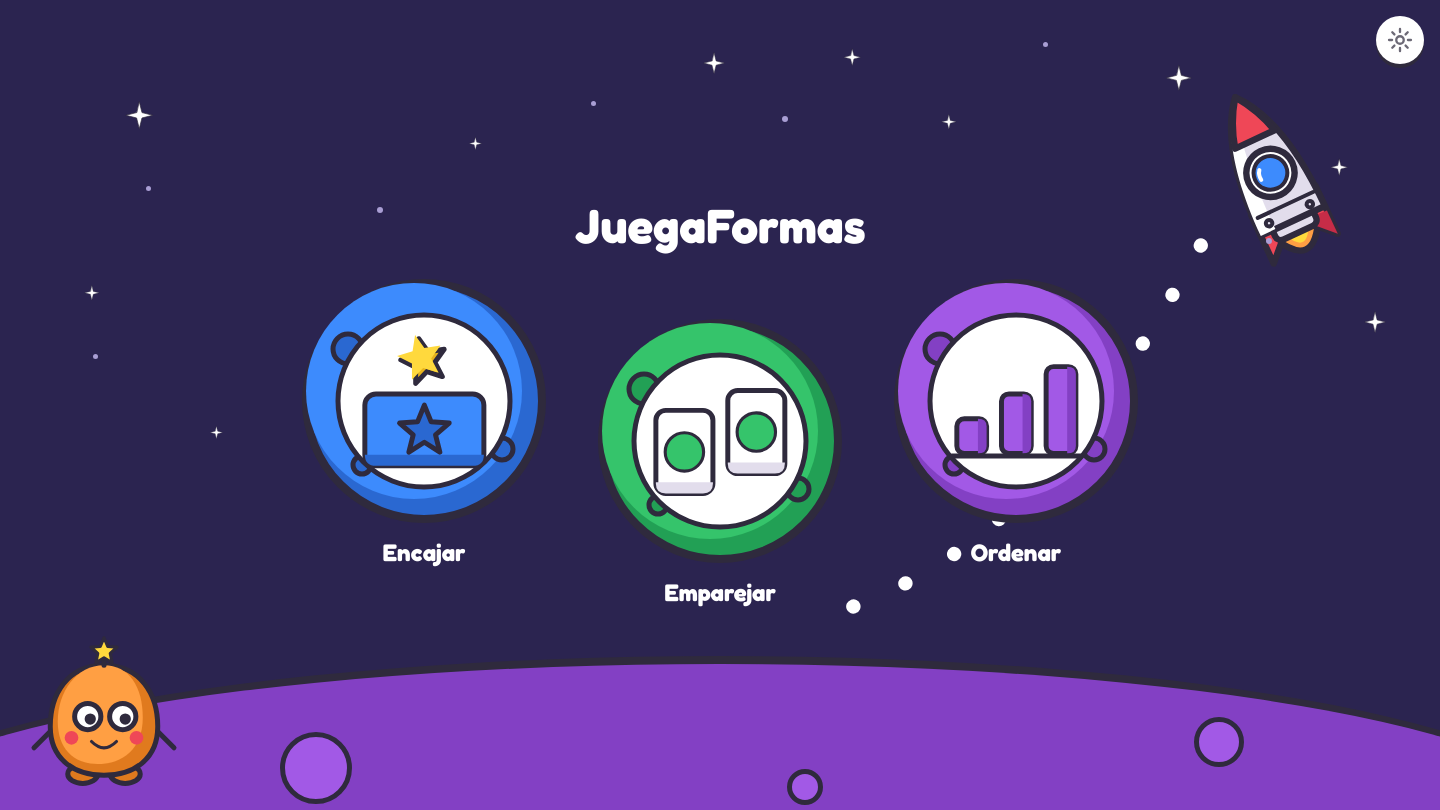
Test: borrar el progreso pregunta antes
Press the mouse on the button named "Ajustes. Mantén pulsado para abrir": (1400, 40) x1=1376 y1=16 x2=1424 y2=64
Wait 800 ms
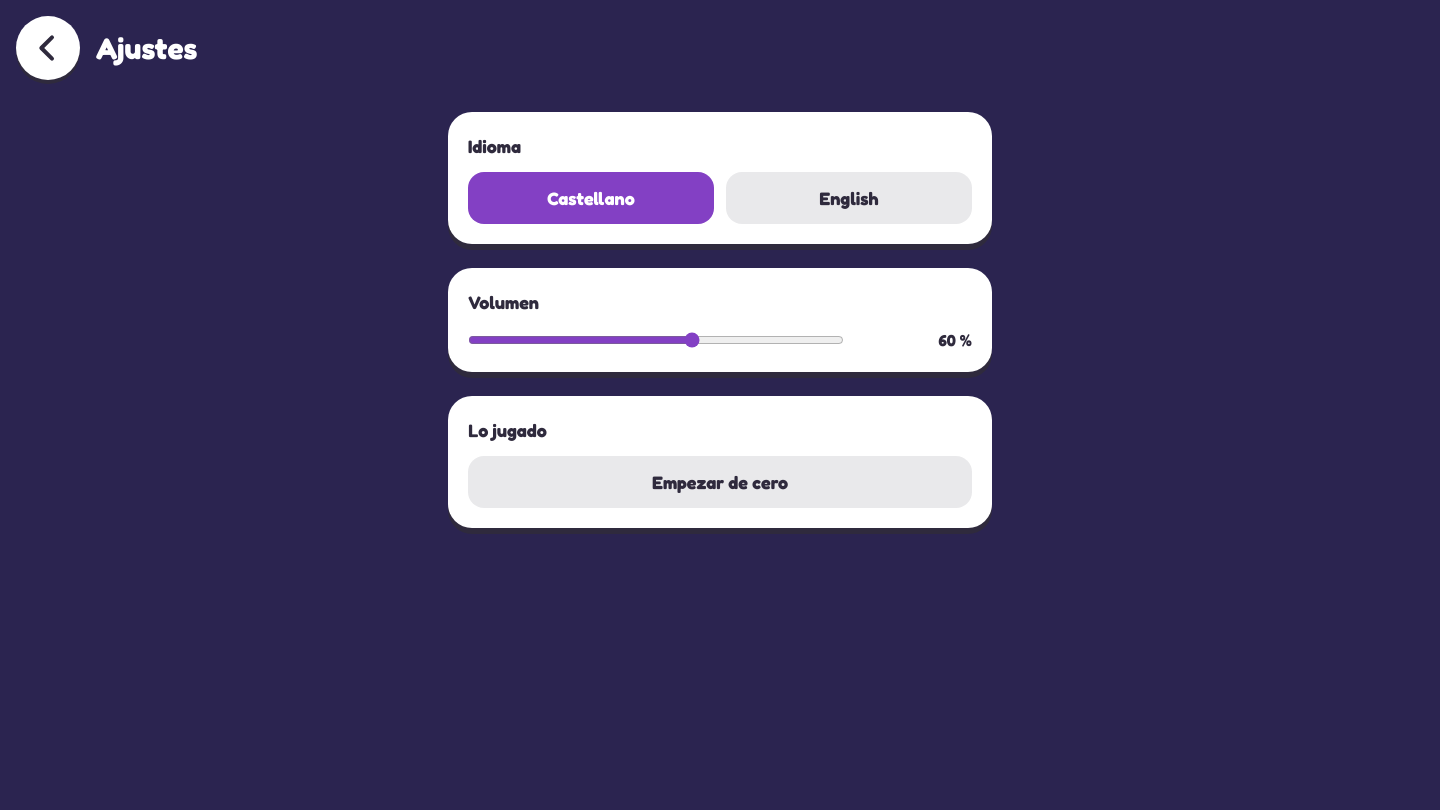
Click the button "Empezar de cero": (720, 482) x1=468 y1=456 x2=972 y2=508
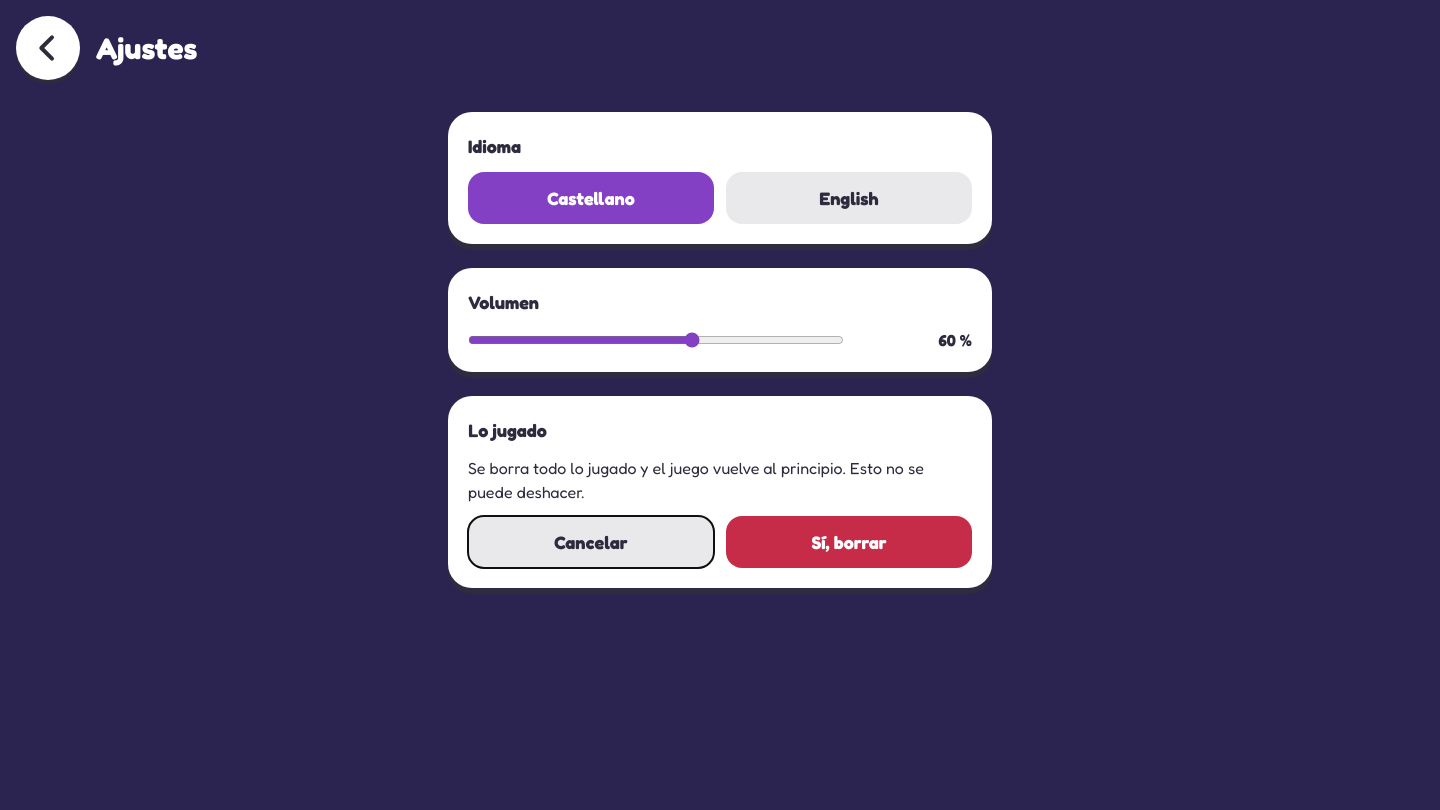
Expected: the text "Se borra todo lo jugado y el juego vuelve al principio. Esto no se puede deshacer." is shown, x1=468 y1=458 x2=924 y2=502
